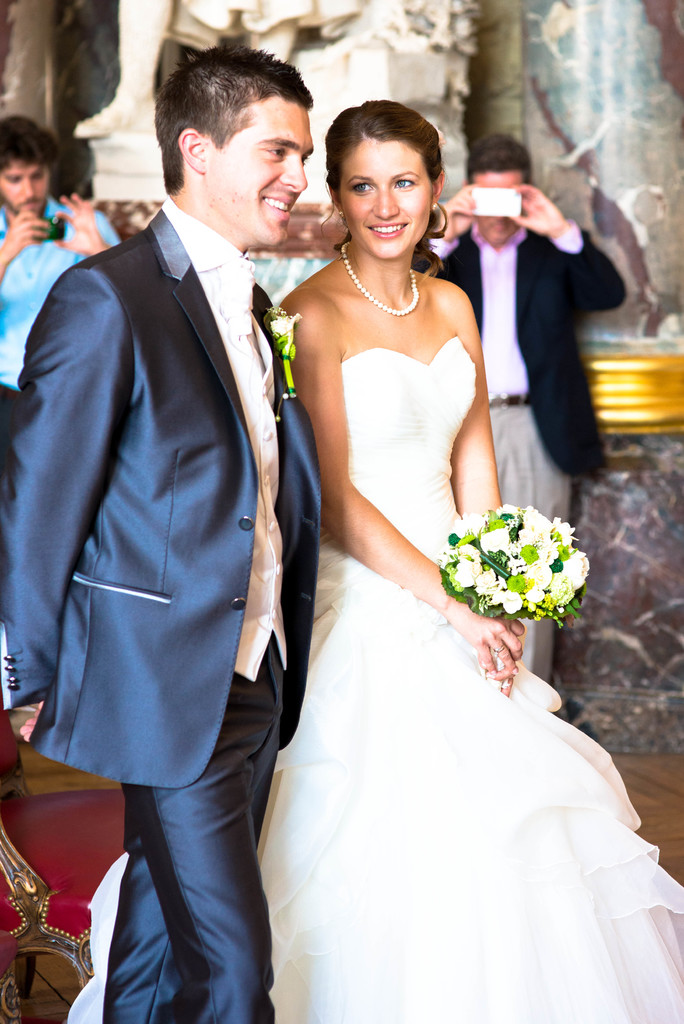Human_hand: (53, 191, 108, 255), (486, 612, 526, 697), (507, 183, 565, 236), (0, 204, 53, 260), (434, 184, 476, 243), (17, 699, 47, 745)
